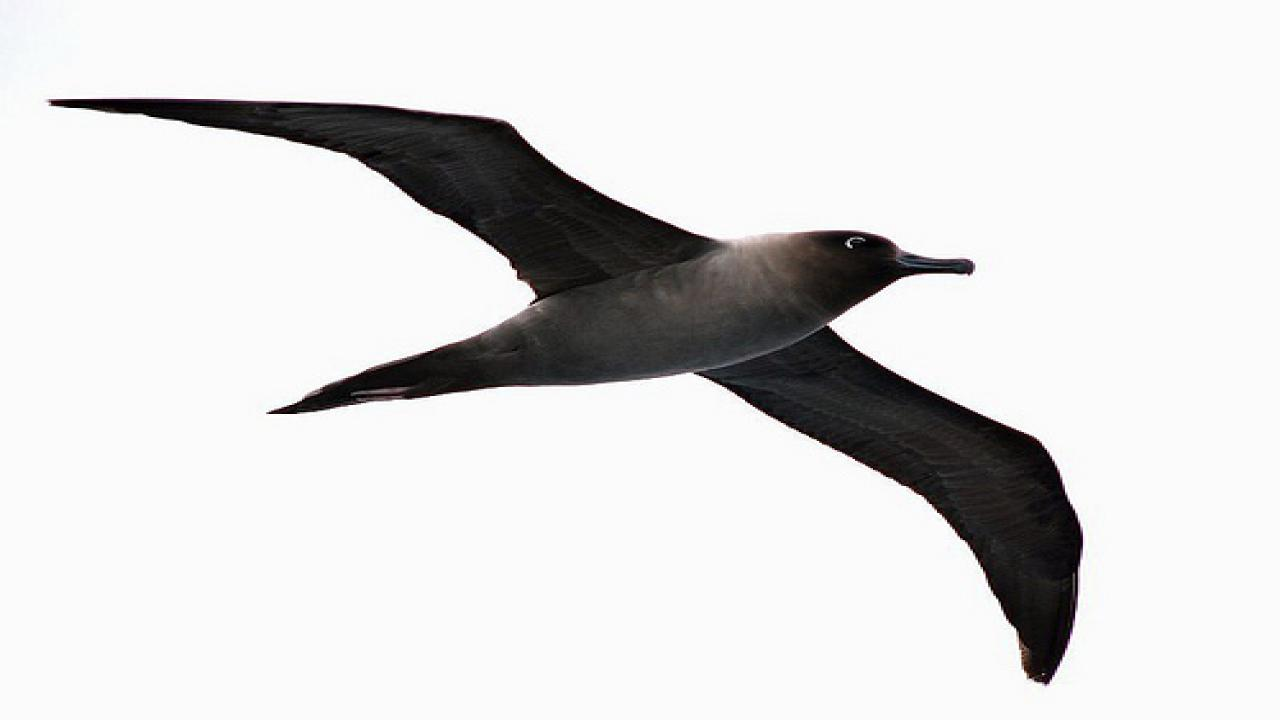Bird: (37, 86, 1096, 692)
